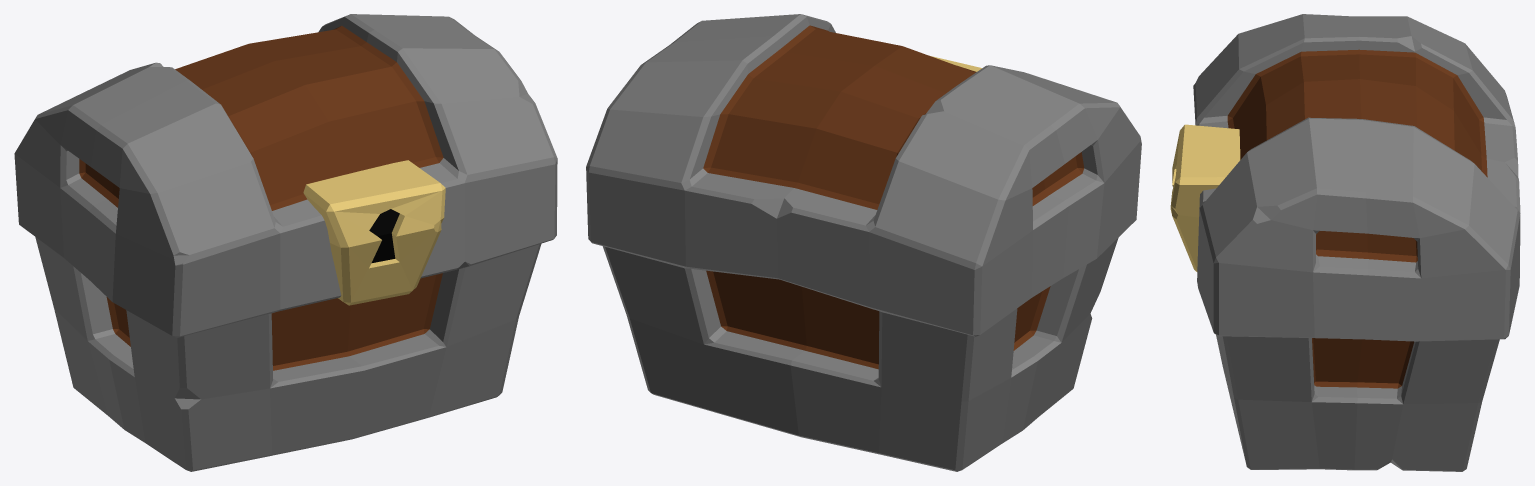
File: Chest.fbx
The picture shows the model from 3 angles, left to right: view 1: azimuth 30°, elevation 25°; view 2: azimuth 150°, elevation 25°; view 3: azimuth 270°, elevation 25°; orthographic projection. The views are drawn at different scales.
Visible parts, largest first — view 1: Cube; view 2: Cube; view 3: Cube.
Boxes of the visible parts, bbox=[...] form: Cube: bbox=[14, 14, 557, 471]; Cube: bbox=[586, 14, 1141, 471]; Cube: bbox=[1170, 14, 1520, 471].
Size of the model in its own units: 359 by 282 by 276.
